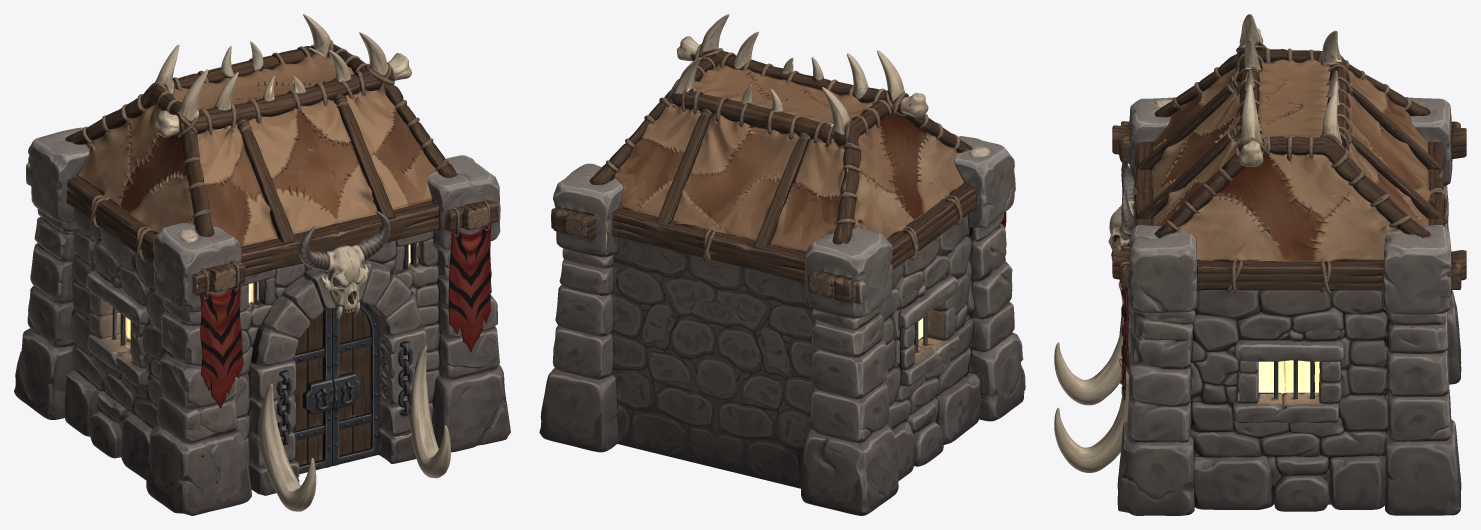
File: TrollVault_300k.glb
3 views of the same model, side by side, from view 1: azimuth 30°, elevation 25°; view 2: azimuth 150°, elevation 25°; view 3: azimuth 270°, elevation 25° (orthographic). The views are drawn at different scales.
Visible parts, largest first — view 1: Mesh_0; view 2: Mesh_0; view 3: Mesh_0.
Boxes of the visible parts, bbox=[...] form: Mesh_0: bbox=[14, 14, 510, 515]; Mesh_0: bbox=[539, 14, 1025, 515]; Mesh_0: bbox=[1054, 14, 1466, 515].
Bounding box in the file's own units: 1.75 × 1.9 × 1.84.
Materials: 1 (1 with a texture image).
